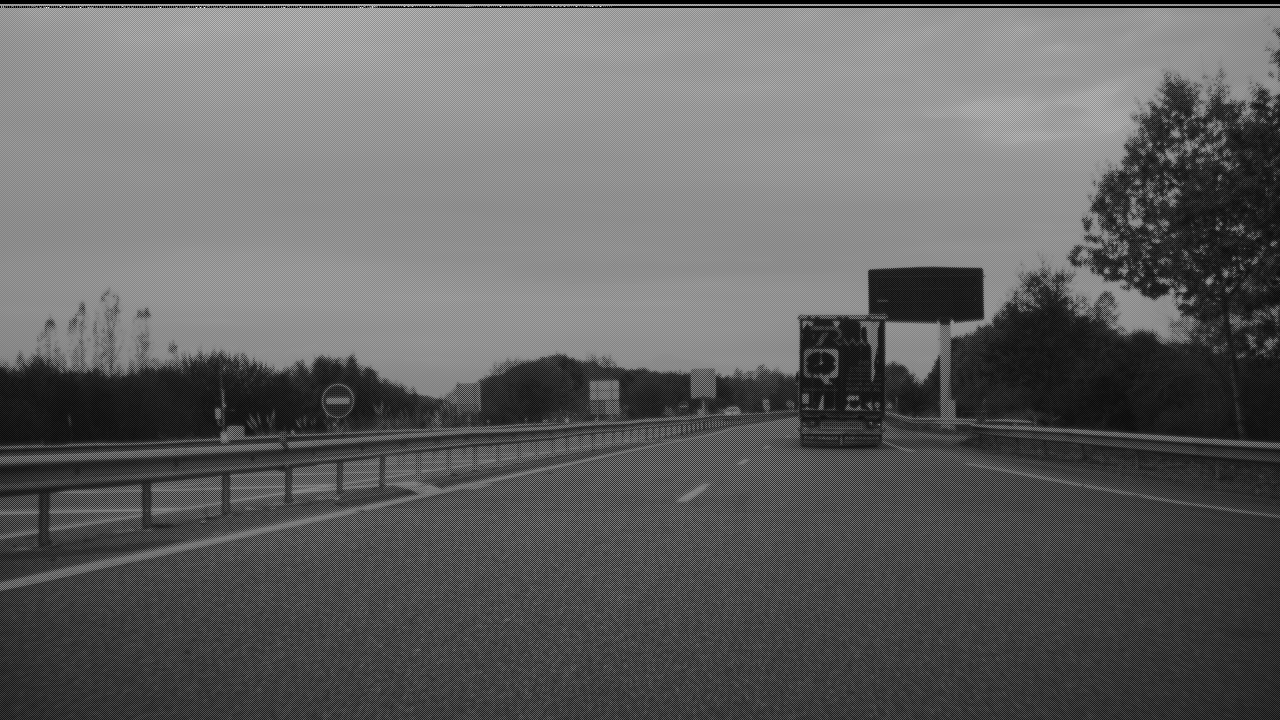pole: (937, 315, 951, 424)
